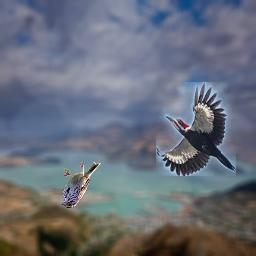Sparrow: (61, 161, 101, 209)
Woodpecker: (156, 82, 236, 176)
